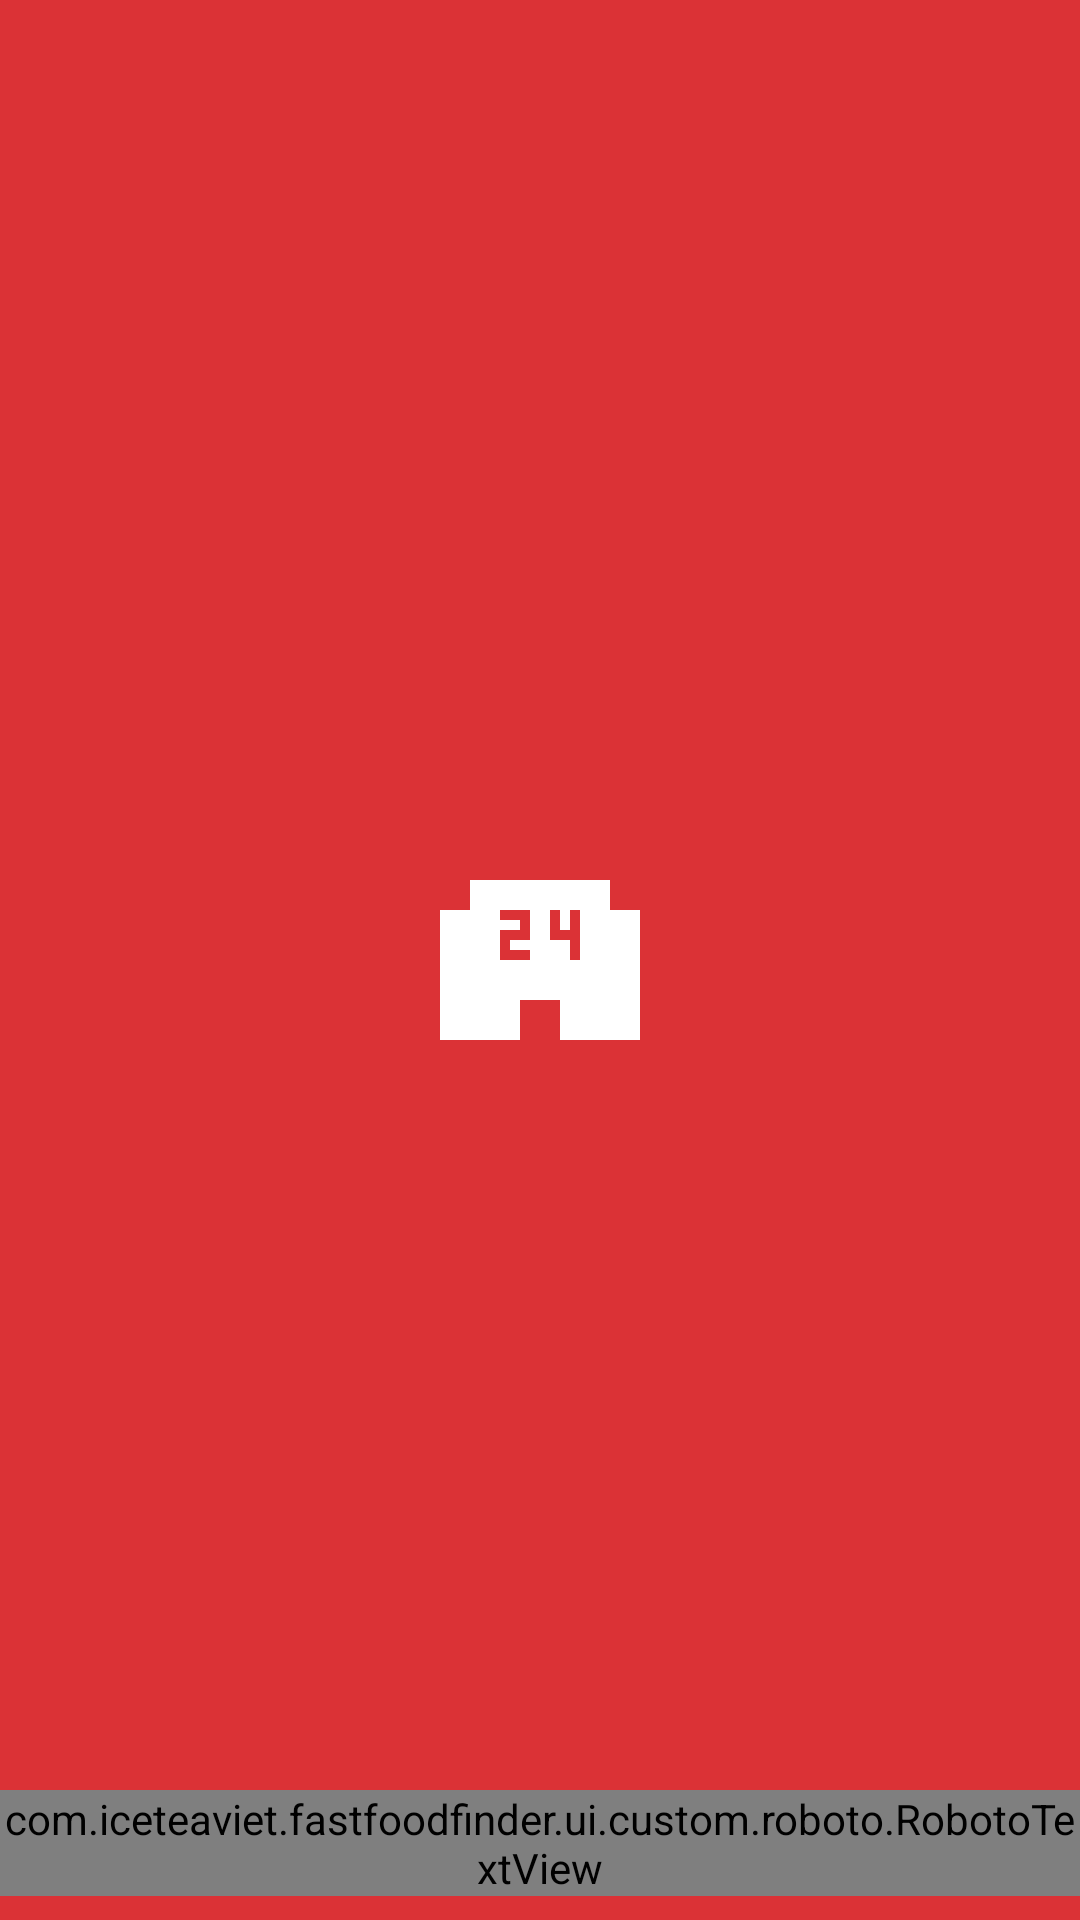

Icon click points for this 1080*1920 phone screenshot, format (x=x, y=y):
all store: (x=540, y=960)
